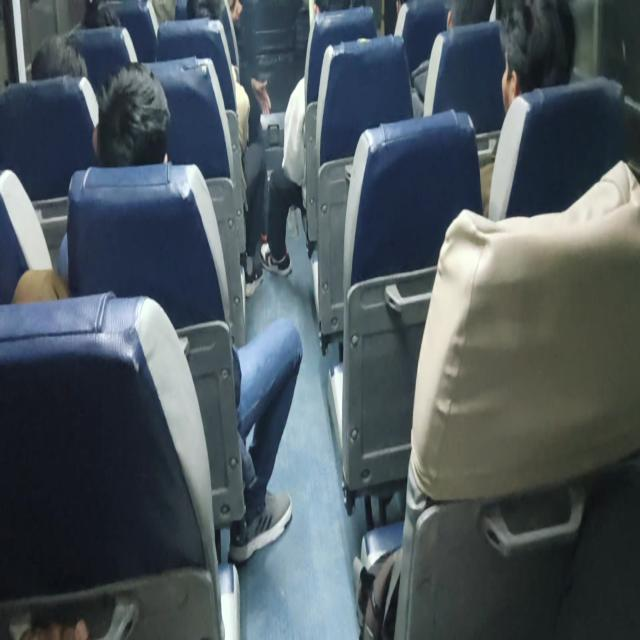person: (490, 0, 568, 112), (96, 69, 170, 168), (23, 31, 97, 86), (442, 0, 506, 30), (80, 0, 126, 40), (301, 0, 361, 24), (166, 0, 222, 25)
